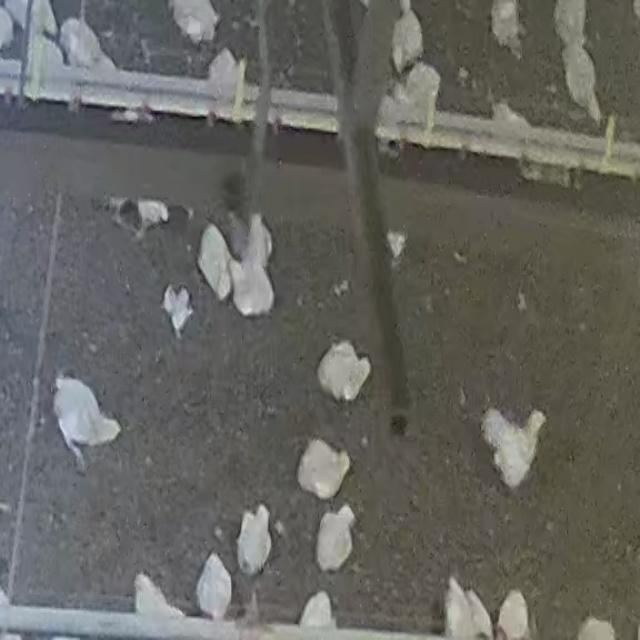chicken: (52, 376, 120, 466), (484, 405, 544, 490), (298, 438, 353, 501), (313, 339, 368, 401), (229, 243, 275, 317), (560, 47, 601, 126), (393, 62, 441, 128), (443, 578, 491, 640), (198, 223, 235, 302), (315, 505, 357, 573), (236, 504, 273, 578), (59, 15, 108, 70), (108, 196, 172, 238), (134, 572, 188, 619), (197, 553, 234, 618), (388, 0, 423, 68), (169, 0, 219, 46), (21, 25, 64, 70), (492, 0, 526, 55), (238, 212, 275, 262), (496, 589, 532, 640), (551, 2, 590, 45), (162, 284, 194, 336), (299, 590, 334, 628), (206, 48, 240, 87), (577, 614, 618, 640)
